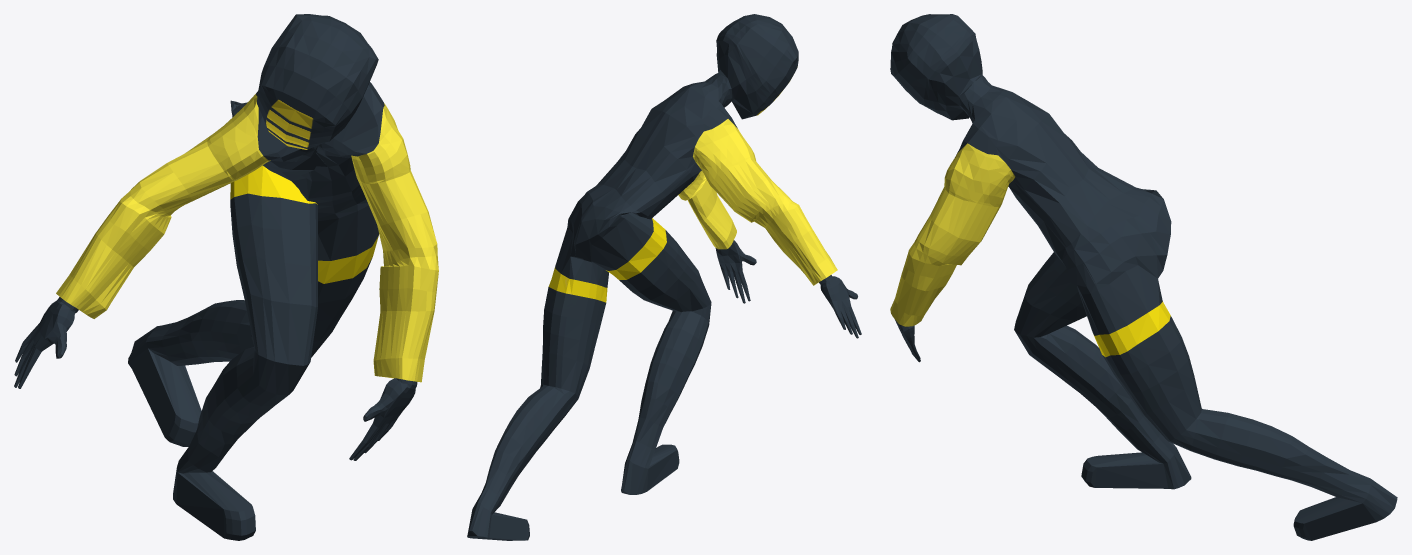
Rendered from Sentry_Die_000006.obj.
3 views of the same model, side by side, from view 1: azimuth 30°, elevation 25°; view 2: azimuth 150°, elevation 25°; view 3: azimuth 270°, elevation 25° (orthographic). The views are drawn at different scales.
Parts seen in each view (by area): view 1: Cube; view 2: Cube; view 3: Cube.
Part boxes in pixels (box(x1,y1,x2,y2)): Cube: box(14, 14, 438, 540); Cube: box(467, 14, 861, 540); Cube: box(890, 14, 1397, 540).
Bounding box in the file's own units: 1.89 × 2.79 × 2.67.
